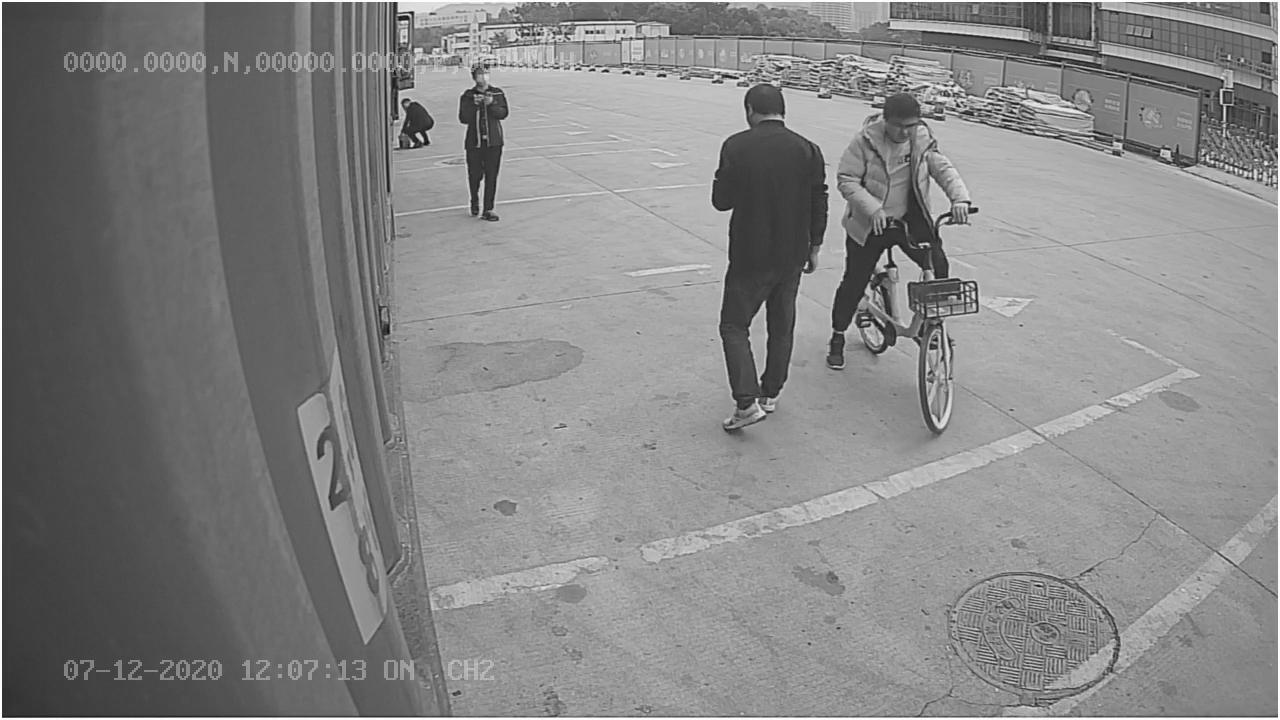person: (713, 79, 832, 434)
